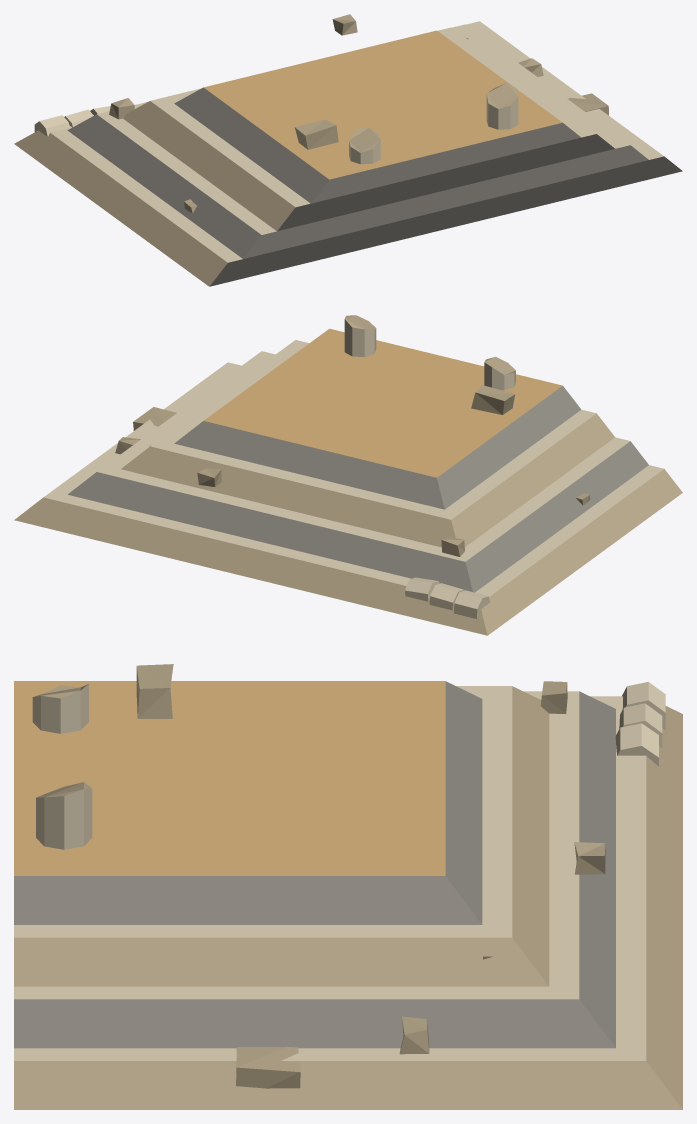
File: SM_ColMons_B.fbx
3 renders of one model, top to bottom at view 1: azimuth 30°, elevation 25°; view 2: azimuth 150°, elevation 25°; view 3: azimuth 270°, elevation 25°, orthographic. The views are drawn at different scales.
Visible parts, largest first — view 1: SM_ColMons_B; view 2: SM_ColMons_B; view 3: SM_ColMons_B.
Part boxes in pixels (x1,y1,x2,y2): SM_ColMons_B: (14, 14, 682, 286); SM_ColMons_B: (14, 315, 682, 635); SM_ColMons_B: (14, 664, 682, 1109).
Bounding box in the file's own units: 14 × 10 × 3.16.
